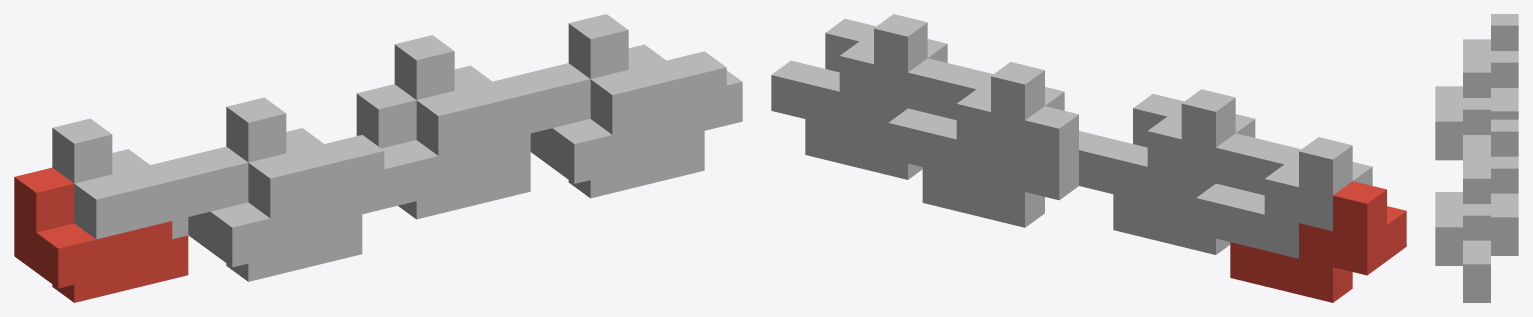
The model's file is tiling.obj.
The picture shows the model from 3 angles, left to right: view 1: azimuth 30°, elevation 25°; view 2: azimuth 150°, elevation 25°; view 3: azimuth 270°, elevation 25°; orthographic projection. The views are drawn at different scales.
Visible parts, largest first — view 1: copy_1_domain_8, copy_1_domain_4, copy_1_domain_1, copy_1_domain_7, copy_1_domain_3, copy_1_domain_2, copy_1_domain_6, copy_1_domain_5; view 2: copy_1_domain_4, copy_1_domain_8, copy_1_domain_3, copy_1_domain_7, copy_1_domain_1, copy_1_domain_5, copy_1_domain_2, copy_1_domain_6; view 3: copy_1_domain_8, copy_1_domain_7, copy_1_domain_4, copy_1_domain_3, copy_1_domain_6, copy_1_domain_2, copy_1_domain_5.
Part boxes in pixels (x1,y1,x2,y2): copy_1_domain_8: [568, 14, 742, 134]; copy_1_domain_4: [226, 97, 400, 218]; copy_1_domain_1: [14, 167, 188, 302]; copy_1_domain_7: [394, 35, 552, 155]; copy_1_domain_3: [52, 118, 210, 239]; copy_1_domain_2: [188, 146, 362, 281]; copy_1_domain_6: [530, 63, 704, 198]; copy_1_domain_5: [356, 84, 530, 219]; copy_1_domain_4: [1079, 89, 1255, 210]; copy_1_domain_8: [771, 14, 947, 135]; copy_1_domain_3: [1196, 137, 1372, 258]; copy_1_domain_7: [888, 62, 1064, 183]; copy_1_domain_1: [1230, 181, 1406, 302]; copy_1_domain_5: [922, 106, 1098, 227]; copy_1_domain_2: [1113, 133, 1269, 254]; copy_1_domain_6: [805, 58, 961, 179]; copy_1_domain_8: [1435, 167, 1490, 289]; copy_1_domain_7: [1463, 119, 1518, 242]; copy_1_domain_4: [1435, 61, 1490, 146]; copy_1_domain_3: [1463, 14, 1518, 119]; copy_1_domain_6: [1435, 252, 1490, 302]; copy_1_domain_2: [1435, 146, 1462, 160]; copy_1_domain_5: [1491, 242, 1518, 255].
Size of the model in its own units: 18 by 4 by 3.
